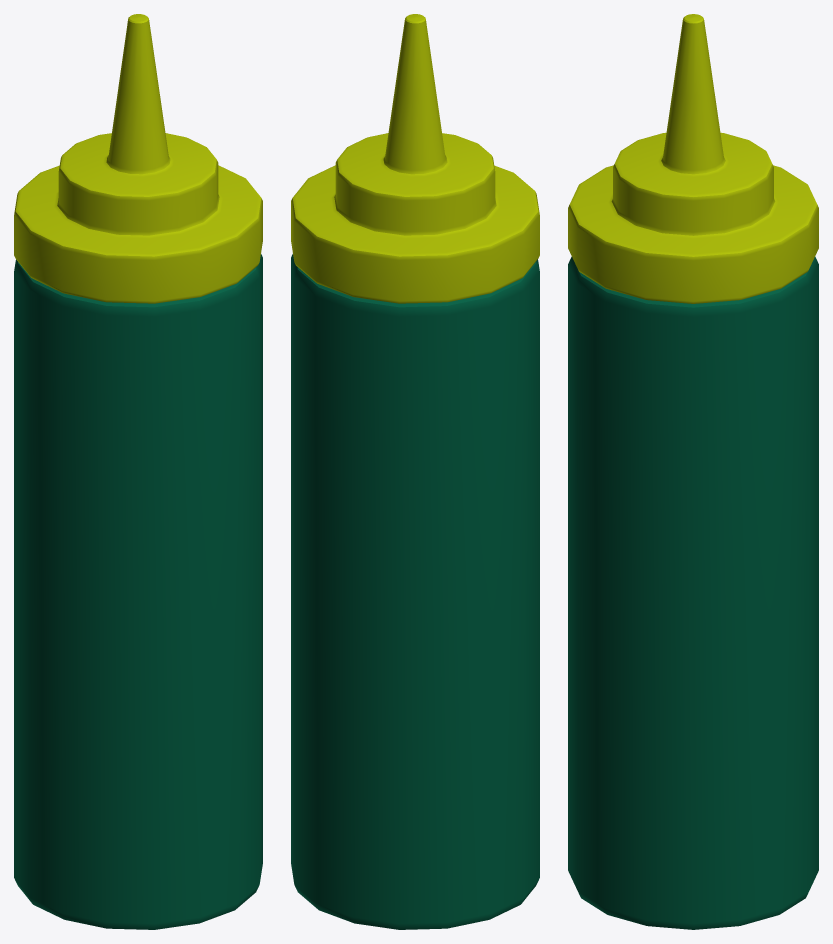
Rendered from Sauce container.fbx.
3 views of the same model, side by side, from view 1: azimuth 30°, elevation 25°; view 2: azimuth 150°, elevation 25°; view 3: azimuth 270°, elevation 25° (orthographic).
Parts seen in each view (by area): view 1: Sauce_container; view 2: Sauce_container; view 3: Sauce_container.
Boxes of the visible parts, x1,y1,x2,y2 form: Sauce_container: (14,14,262,929); Sauce_container: (291,14,539,929); Sauce_container: (568,14,818,929).
Bounding box in the file's own units: 7.81 × 29.69 × 7.81.
